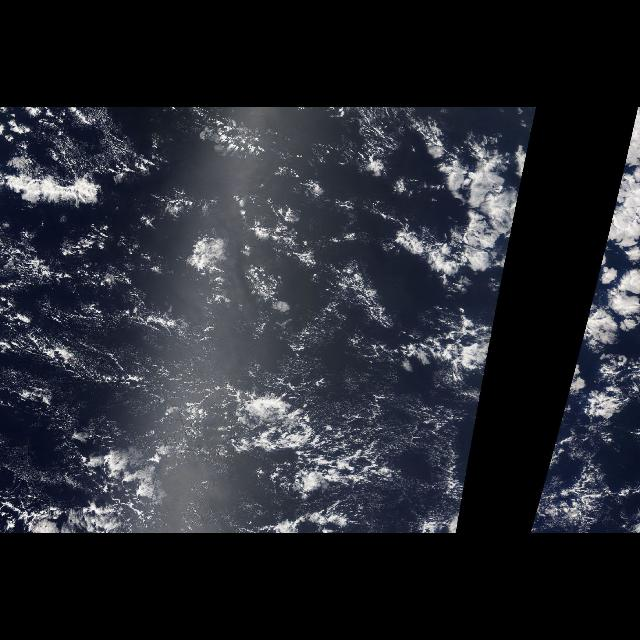Gravel: (4, 247, 323, 449)
Sugar: (2, 109, 456, 485)
